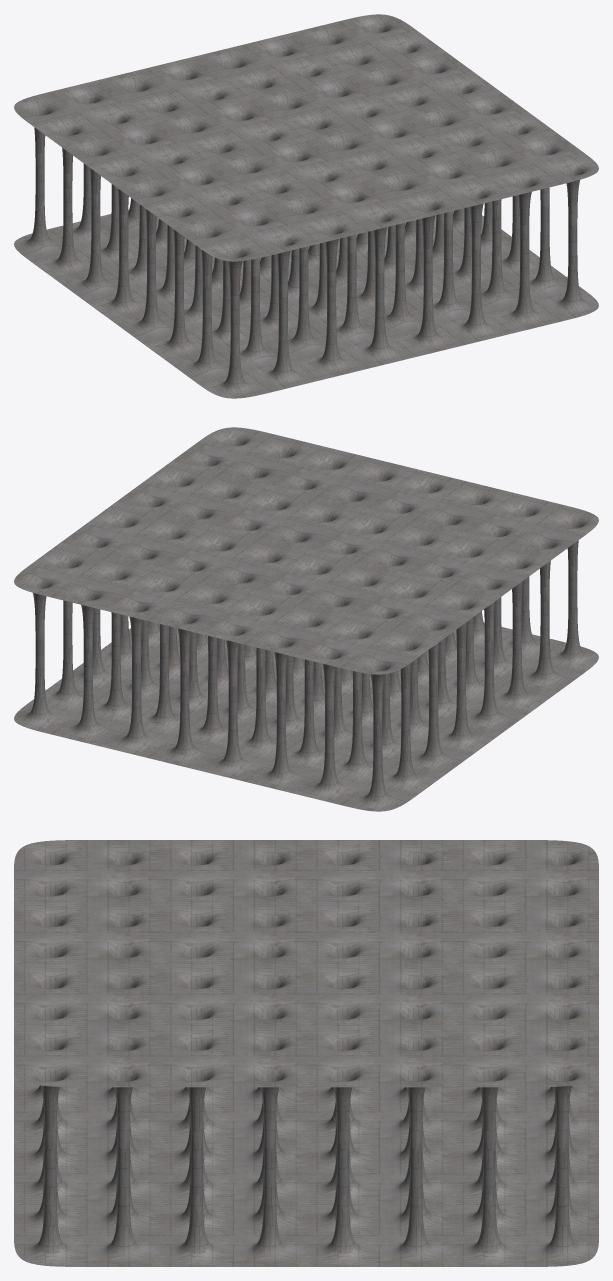
Rendered from jozsef_gruber_water_reservoir.glb.
The picture shows the model from 3 angles, top to bottom: view 1: azimuth 30°, elevation 25°; view 2: azimuth 150°, elevation 25°; view 3: azimuth 270°, elevation 25°; orthographic projection. The views are drawn at different scales.
Visible parts, largest first — view 1: Plane_0; view 2: Plane_0; view 3: Plane_0.
Boxes of the visible parts, x1,y1,x2,y2 form: Plane_0: (14,14,598,398); Plane_0: (14,427,598,811); Plane_0: (14,840,598,1266).
Size of the model in its own units: 4 by 1.36 by 4.
2 materials, 2 textured.
